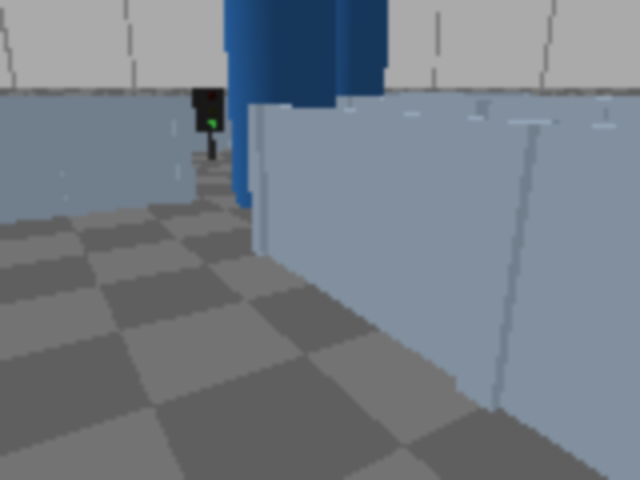traffic_light: (192, 85, 226, 160)
